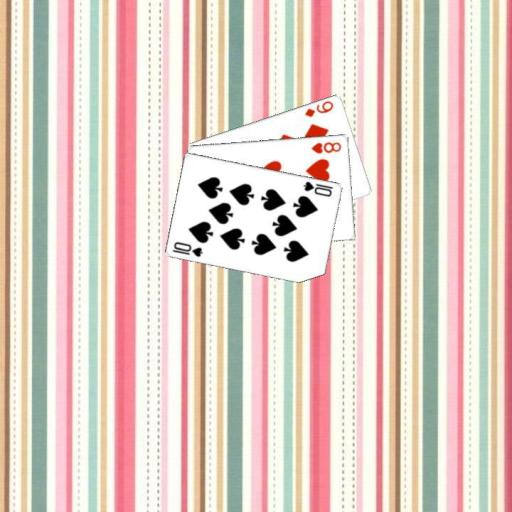10S: (300, 178, 335, 198), (170, 238, 205, 258)
8H: (308, 138, 343, 155)
9D: (301, 97, 335, 119)
